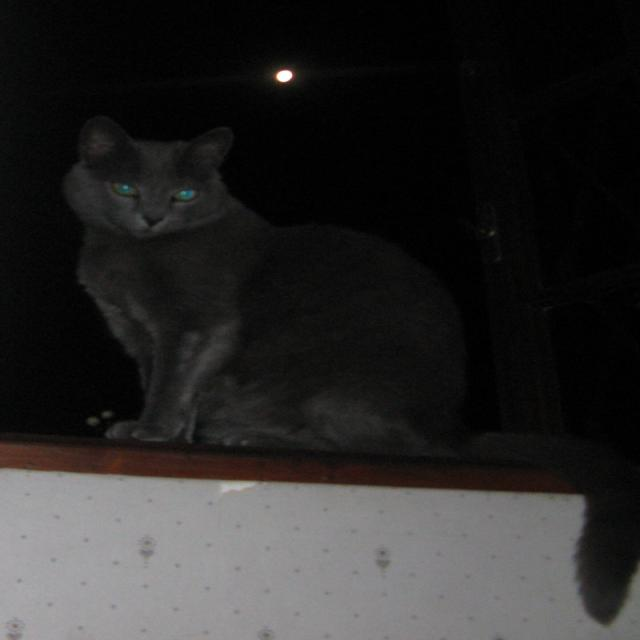Cat: (48, 103, 640, 623)
